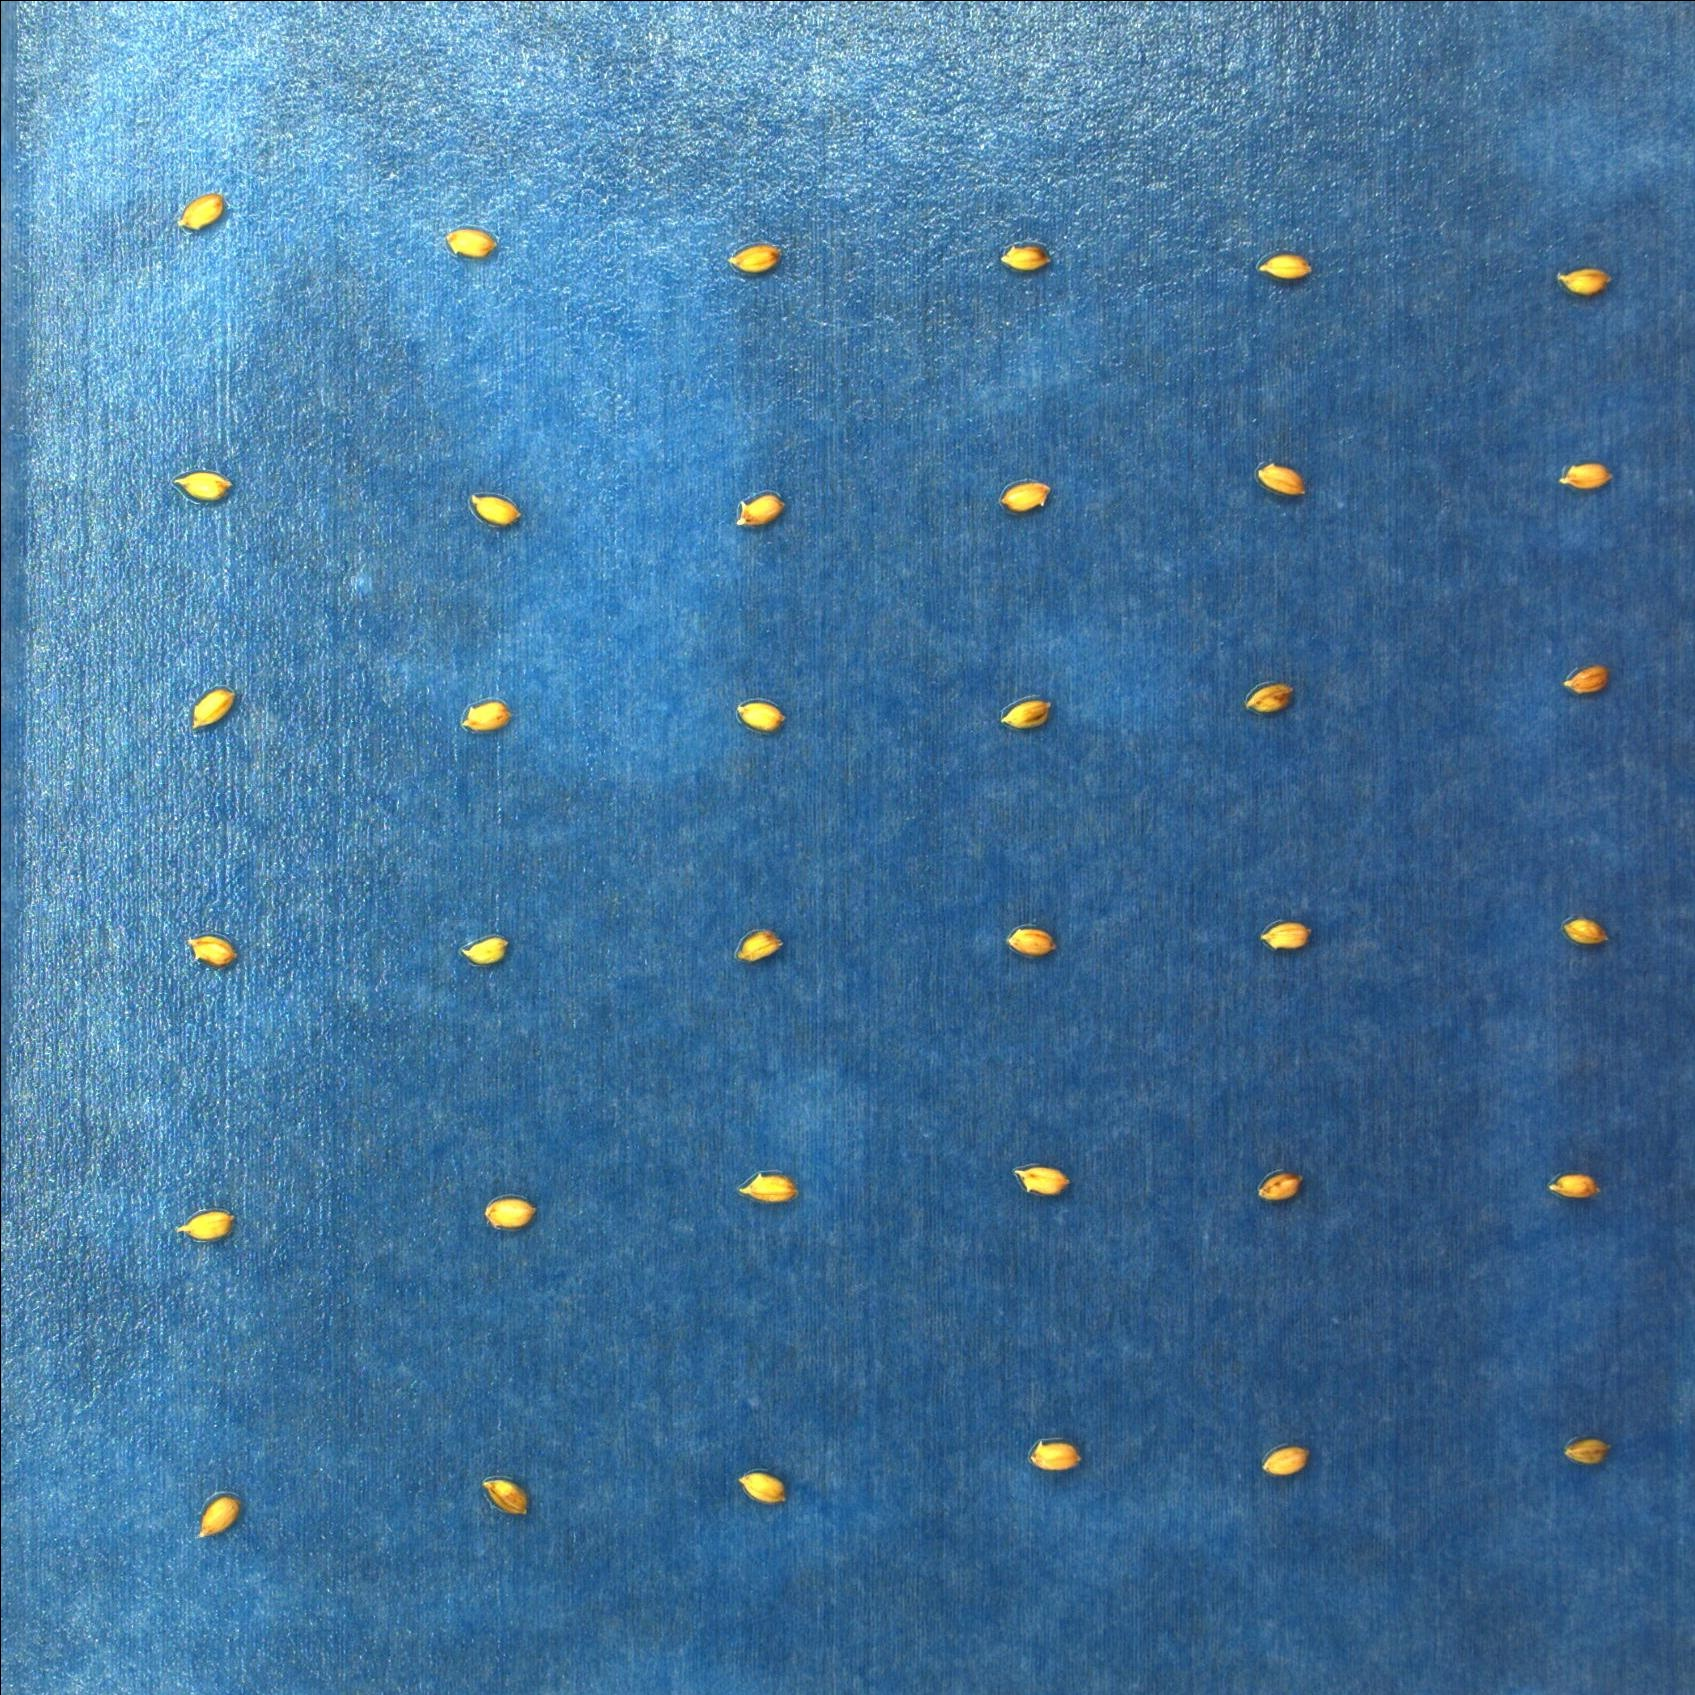not sprout: (191, 685, 241, 733), (1014, 1159, 1073, 1198), (737, 1170, 804, 1205), (172, 192, 227, 234), (1000, 234, 1054, 276), (995, 475, 1052, 514), (172, 1208, 241, 1240), (478, 1479, 534, 1518), (1557, 456, 1614, 494), (1257, 250, 1316, 286), (467, 492, 526, 528), (171, 470, 234, 503), (1554, 1434, 1614, 1468), (1254, 459, 1305, 498), (720, 244, 782, 275), (1544, 1167, 1607, 1198), (480, 1197, 540, 1228), (1243, 678, 1293, 716), (1000, 927, 1059, 958), (733, 698, 784, 734), (438, 227, 494, 259), (733, 494, 785, 528), (736, 928, 790, 961), (196, 1493, 237, 1535), (997, 698, 1052, 730), (1265, 1440, 1312, 1478), (736, 1471, 785, 1506), (1552, 264, 1613, 292), (186, 934, 241, 965), (1563, 663, 1608, 698), (458, 934, 515, 962), (1257, 924, 1312, 953), (1254, 1170, 1301, 1203), (1032, 1440, 1079, 1470), (459, 705, 512, 730), (1565, 919, 1613, 945)
